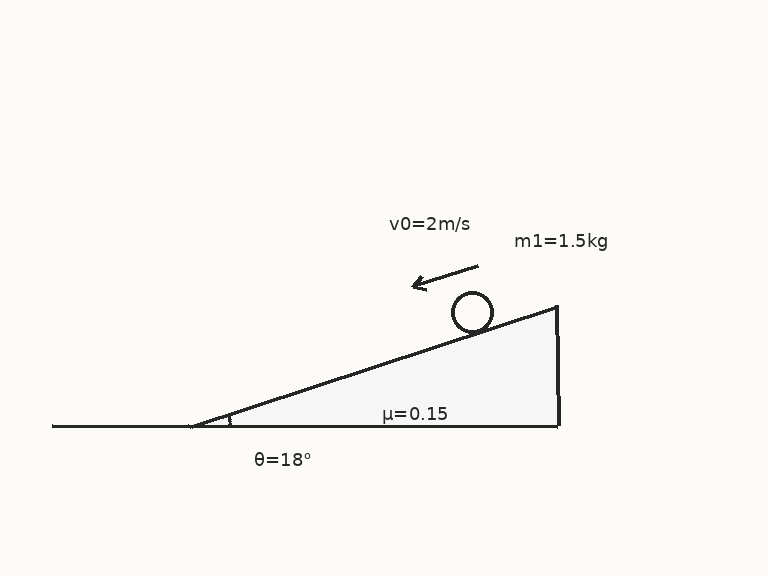ball: (449, 289, 495, 335)
ramp: (188, 305, 559, 428)
